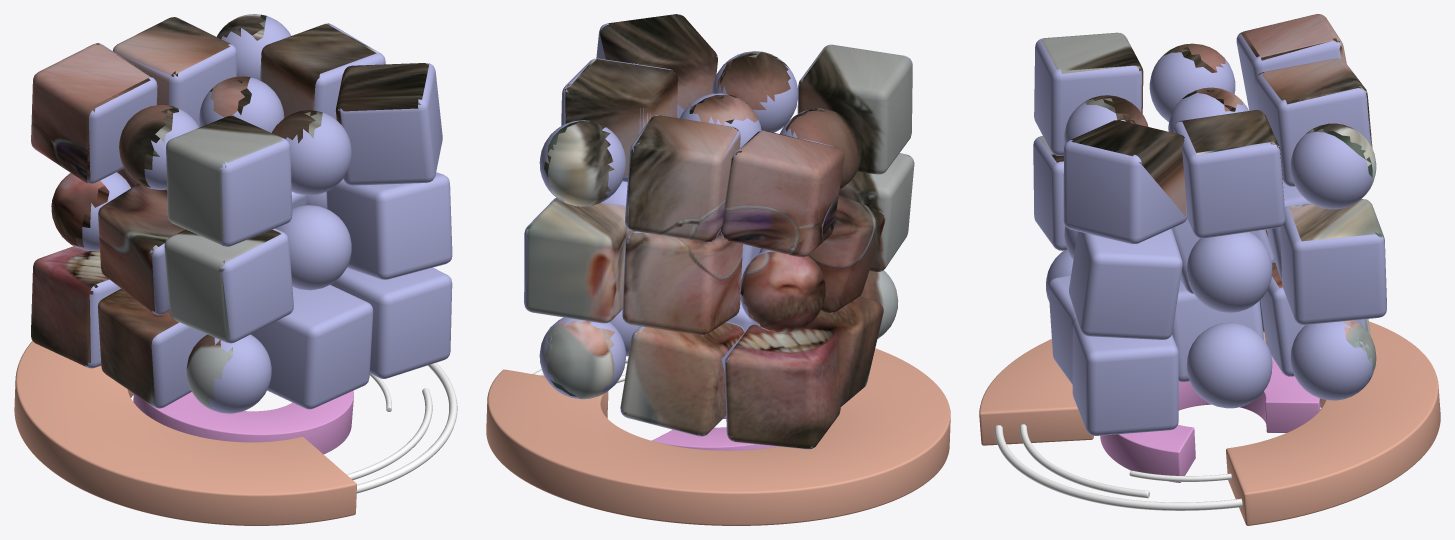
File: PortfolioObjekt1.glb
3 renders of one model, left to right at view 1: azimuth 30°, elevation 25°; view 2: azimuth 150°, elevation 25°; view 3: azimuth 270°, elevation 25°, orthographic.
Parts seen in each view (by area): view 1: Objectabstract; view 2: Objectabstract; view 3: Objectabstract.
Boxes of the visible parts, x1,y1,x2,y2 form: Objectabstract: [14, 14, 457, 525]; Objectabstract: [486, 14, 950, 525]; Objectabstract: [979, 14, 1440, 525].
Bounding box in the file's own units: 0.3328 × 0.294 × 0.3358.
Materials: 5 (1 with a texture image).
